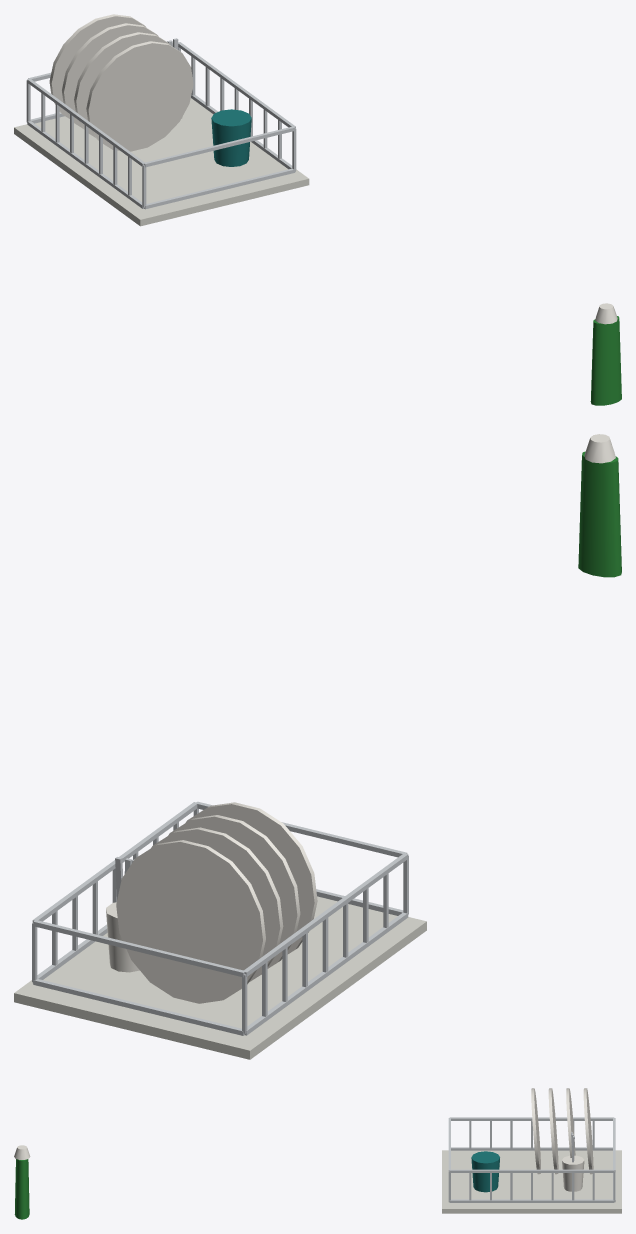
The model's file is dish-drainer.glb.
3 renders of one model, top to bottom at view 1: azimuth 30°, elevation 25°; view 2: azimuth 150°, elevation 25°; view 3: azimuth 270°, elevation 25°, orthographic. The views are drawn at different scales.
Visible parts, largest first — view 1: dish-drainer; view 2: dish-drainer; view 3: dish-drainer.
Boxes of the visible parts, box(x1,y1,x2,y2) form: dish-drainer: box(14, 14, 621, 405); dish-drainer: box(14, 434, 621, 1059); dish-drainer: box(14, 1088, 621, 1219).
Bounding box in the file's own units: 1.49 × 0.9135 × 5.91.
